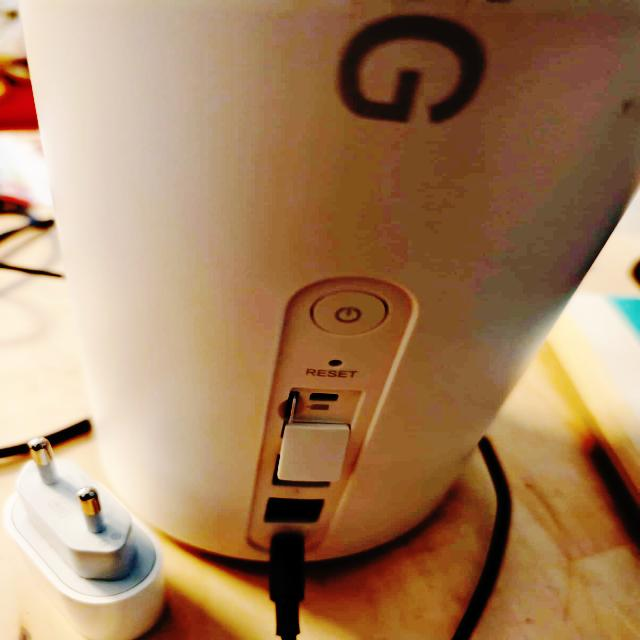lan: (266, 497, 325, 525)
modem: (44, 0, 640, 563)
onbutton: (311, 291, 389, 334)
